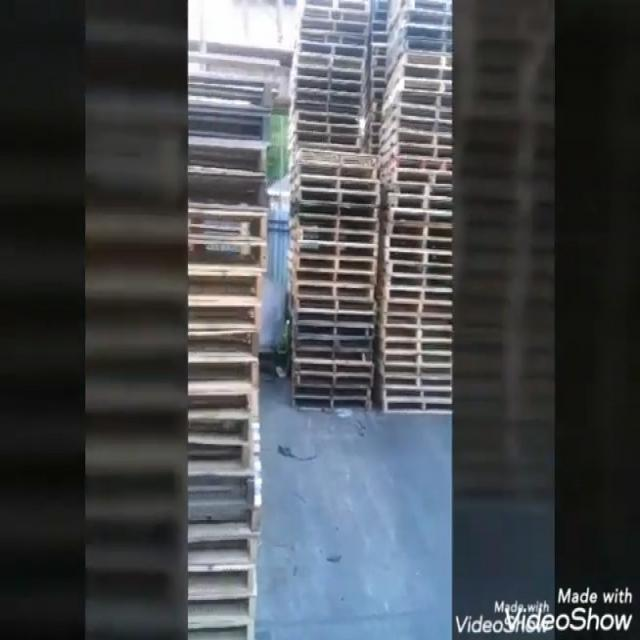Palette: (186, 70, 278, 640), (289, 0, 384, 421), (382, 0, 454, 424)
